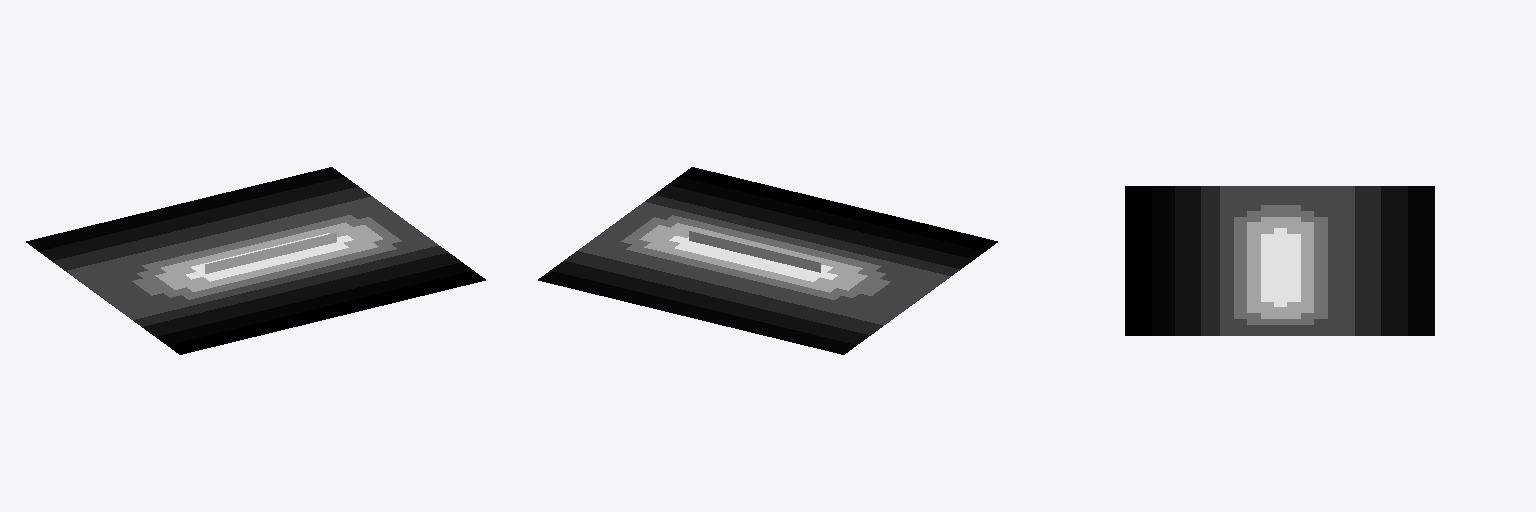
The model's file is projname.obj.
3 renders of one model, left to right at view 1: azimuth 30°, elevation 25°; view 2: azimuth 150°, elevation 25°; view 3: azimuth 270°, elevation 25°, orthographic.
Visible parts, largest first — view 1: OLDTEXT_Text.002; view 2: OLDTEXT_Text.002; view 3: OLDTEXT_Text.002.
Boxes of the visible parts, <box> form: OLDTEXT_Text.002: <box>26,167,485,354</box>; OLDTEXT_Text.002: <box>538,167,997,354</box>; OLDTEXT_Text.002: <box>1125,186,1434,335</box>.
Size of the model in its own units: 8.8 by 0.272 by 7.7.